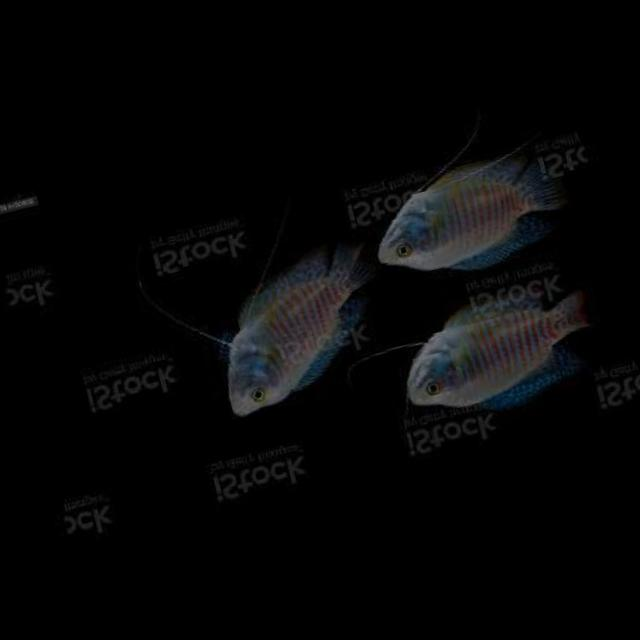Gourami: (188, 238, 394, 426), (382, 274, 612, 438), (359, 139, 574, 292)
